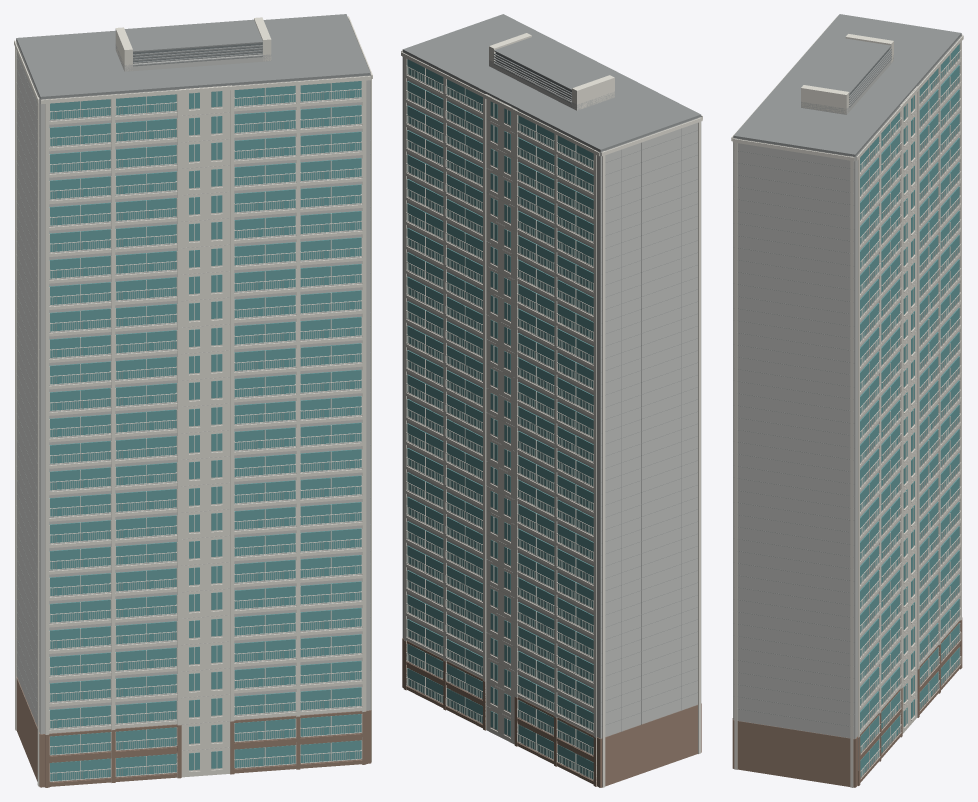
The model's file is bespoke-jamsil-els-136.glb.
The picture shows the model from 3 angles, left to right: view 1: azimuth 30°, elevation 25°; view 2: azimuth 150°, elevation 25°; view 3: azimuth 270°, elevation 25°; orthographic projection. The views are drawn at different scales.
Visible parts, largest first — view 1: Els136_editable_Els136_turquoise_balcony_glazing, Els136_white_exact_chunk_2, Els136_editable_Els136_light_grey_solid_wall, Els136_white_exact_chunk_3, Els136_editable_Els136_modest_grey_flat_roof_caps, Els136_white_exact_chunk_4, Els136_editable_Els136_muted_ground_wall, Els136_editable_Els136_narrow_charcoal_service_strips; view 2: Els136_editable_Els136_light_grey_solid_wall, Els136_editable_Els136_turquoise_balcony_glazing, Els136_white_exact_chunk_0, Els136_white_exact_chunk_1, Els136_editable_Els136_modest_grey_flat_roof_caps, Els136_white_exact_chunk_2, Els136_editable_Els136_muted_ground_wall, Els136_white_exact_chunk_4; view 3: Els136_editable_Els136_light_grey_solid_wall, Els136_editable_Els136_turquoise_balcony_glazing, Els136_white_exact_chunk_0, Els136_editable_Els136_modest_grey_flat_roof_caps, Els136_white_exact_chunk_1, Els136_editable_Els136_muted_ground_wall, Els136_white_exact_chunk_4, Els136_white_exact_chunk_2.
Part boxes in pixels (left/top/right/bottom): Els136_editable_Els136_turquoise_balcony_glazing: left=49, top=81, right=361, bottom=781; Els136_white_exact_chunk_2: left=14, top=39, right=231, bottom=786; Els136_editable_Els136_light_grey_solid_wall: left=16, top=40, right=370, bottom=750; Els136_white_exact_chunk_3: left=45, top=86, right=362, bottom=782; Els136_editable_Els136_modest_grey_flat_roof_caps: left=16, top=14, right=370, bottom=733; Els136_white_exact_chunk_4: left=40, top=16, right=372, bottom=773; Els136_editable_Els136_muted_ground_wall: left=16, top=676, right=371, bottom=787; Els136_editable_Els136_narrow_charcoal_service_strips: left=133, top=43, right=262, bottom=62; Els136_editable_Els136_light_grey_solid_wall: left=402, top=52, right=701, bottom=738; Els136_editable_Els136_turquoise_balcony_glazing: left=407, top=59, right=593, bottom=779; Els136_white_exact_chunk_0: left=406, top=59, right=517, bottom=744; Els136_white_exact_chunk_1: left=404, top=53, right=593, bottom=780; Els136_editable_Els136_modest_grey_flat_roof_caps: left=402, top=14, right=701, bottom=736; Els136_white_exact_chunk_2: left=401, top=52, right=702, bottom=787; Els136_editable_Els136_muted_ground_wall: left=402, top=638, right=701, bottom=787; Els136_white_exact_chunk_4: left=401, top=33, right=702, bottom=119; Els136_editable_Els136_light_grey_solid_wall: left=733, top=35, right=961, bottom=738; Els136_editable_Els136_turquoise_balcony_glazing: left=860, top=44, right=959, bottom=777; Els136_white_exact_chunk_0: left=860, top=86, right=917, bottom=778; Els136_editable_Els136_modest_grey_flat_roof_caps: left=733, top=14, right=961, bottom=739; Els136_white_exact_chunk_1: left=858, top=65, right=961, bottom=770; Els136_editable_Els136_muted_ground_wall: left=732, top=617, right=962, bottom=787; Els136_white_exact_chunk_4: left=731, top=16, right=893, bottom=787; Els136_white_exact_chunk_2: left=856, top=34, right=963, bottom=717.
Size of the model in its own units: 34.54 by 73.8 by 23.8.
